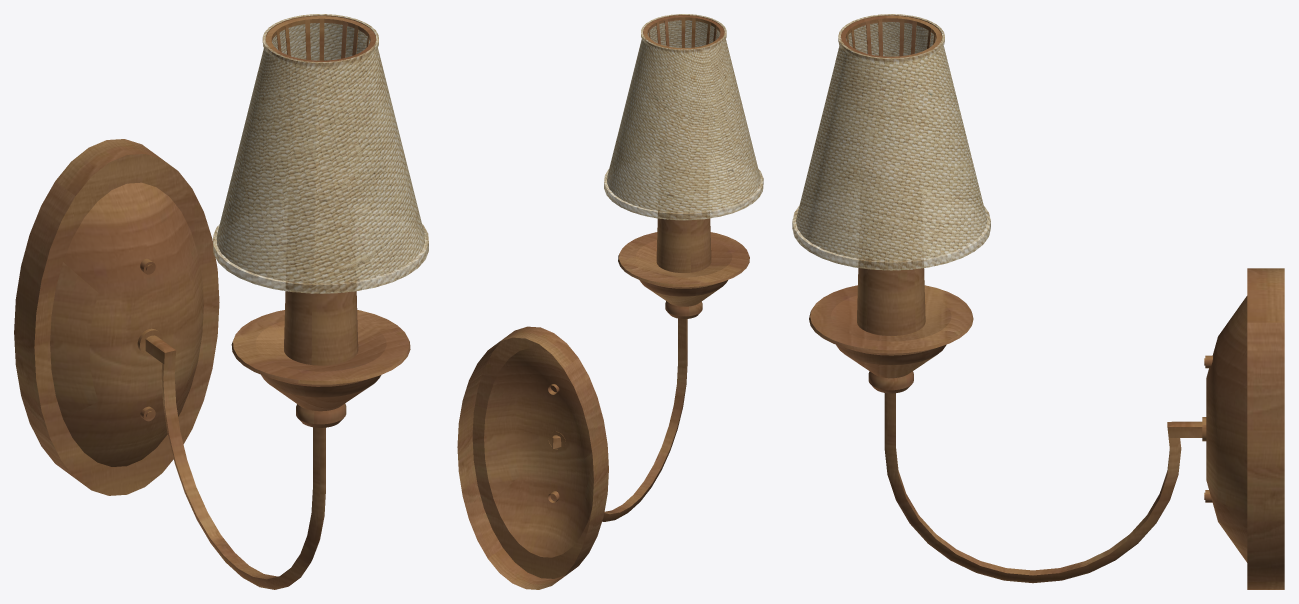
File: LampaPi.obj
3 renders of one model, left to right at view 1: azimuth 30°, elevation 25°; view 2: azimuth 150°, elevation 25°; view 3: azimuth 270°, elevation 25°, orthographic. The views are drawn at different scales.
Parts seen in each view (by area): view 1: Cylinder; view 2: Cylinder; view 3: Cylinder.
Boxes of the visible parts, bbox=[...] form: Cylinder: bbox=[14, 14, 428, 589]; Cylinder: bbox=[457, 14, 763, 589]; Cylinder: bbox=[792, 14, 1284, 589].
Size of the model in its own units: 0.2697 by 0.8219 by 0.6686.
